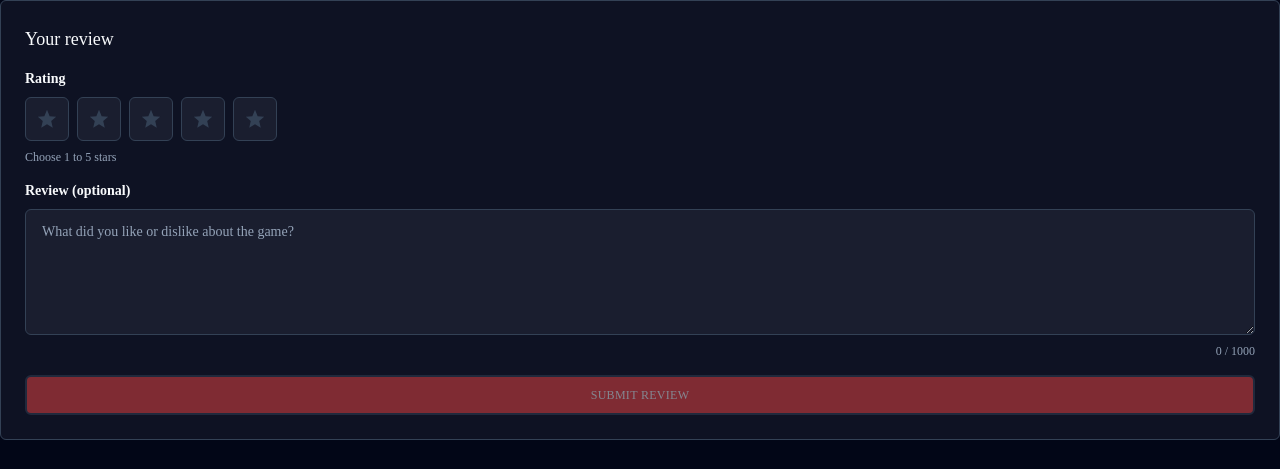
it: <ReviewForm /> › shows the API error and keeps the typed text
Click the button named "Rate 4 out of 5". click: {"x": 203, "y": 119}
box: [181, 97, 225, 141]
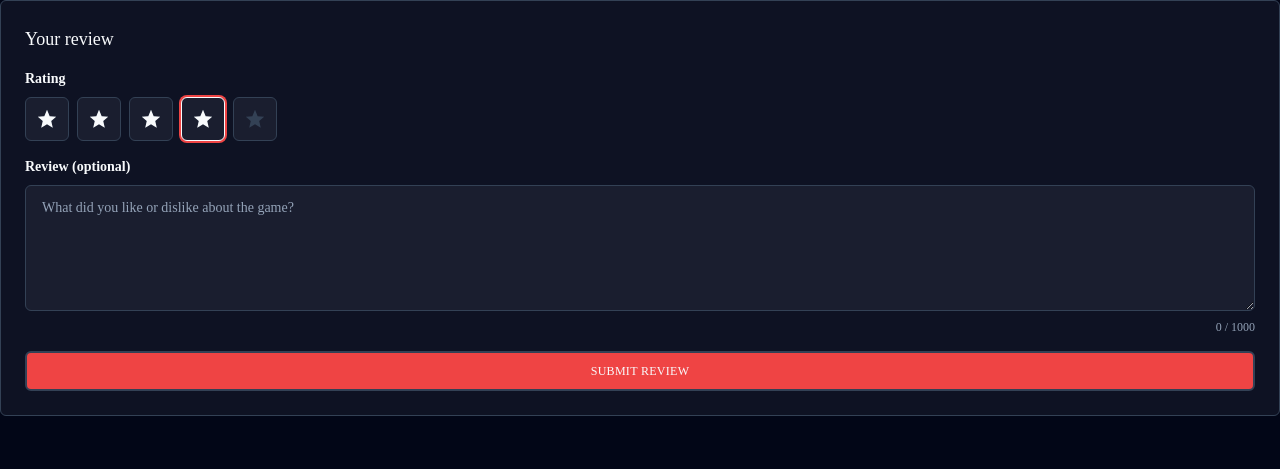
Type "Keep me" into the text box with test id "review-body-input". click: {"x": 640, "y": 248}
box: [25, 185, 1255, 311]
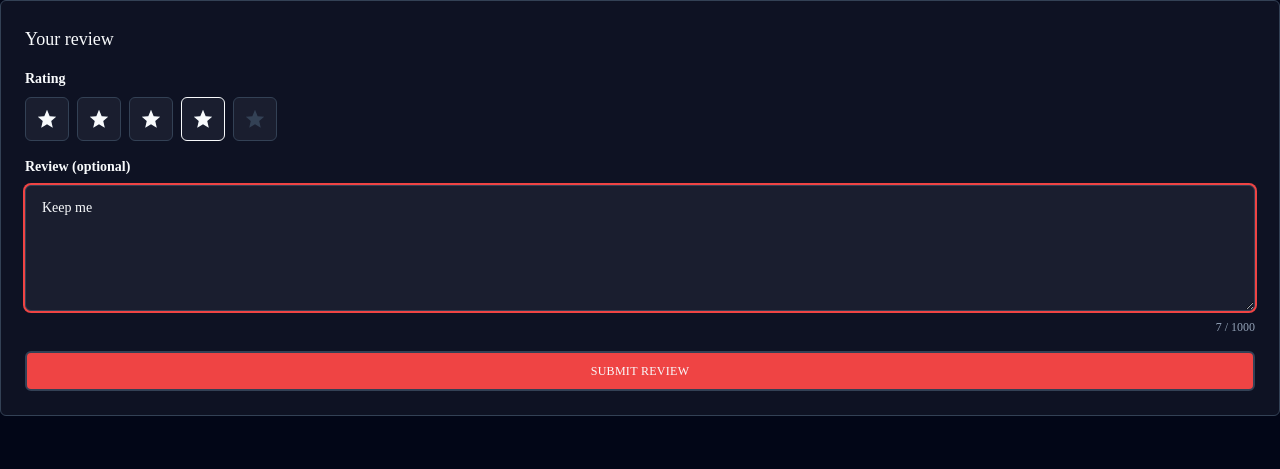
Click the button with test id "review-submit". click: {"x": 640, "y": 371}
box: [25, 351, 1255, 391]
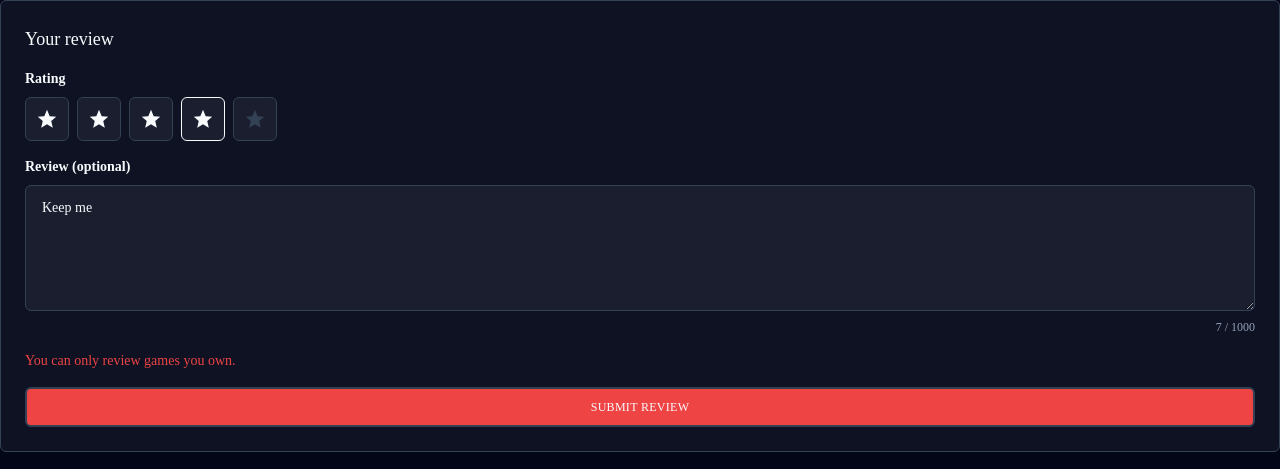
Check: the button with test id "review-submit" is enabled, box [25, 387, 1255, 427]
Check: the message with test id "review-error" reads "You can only review games you own.", box [25, 353, 236, 368]
